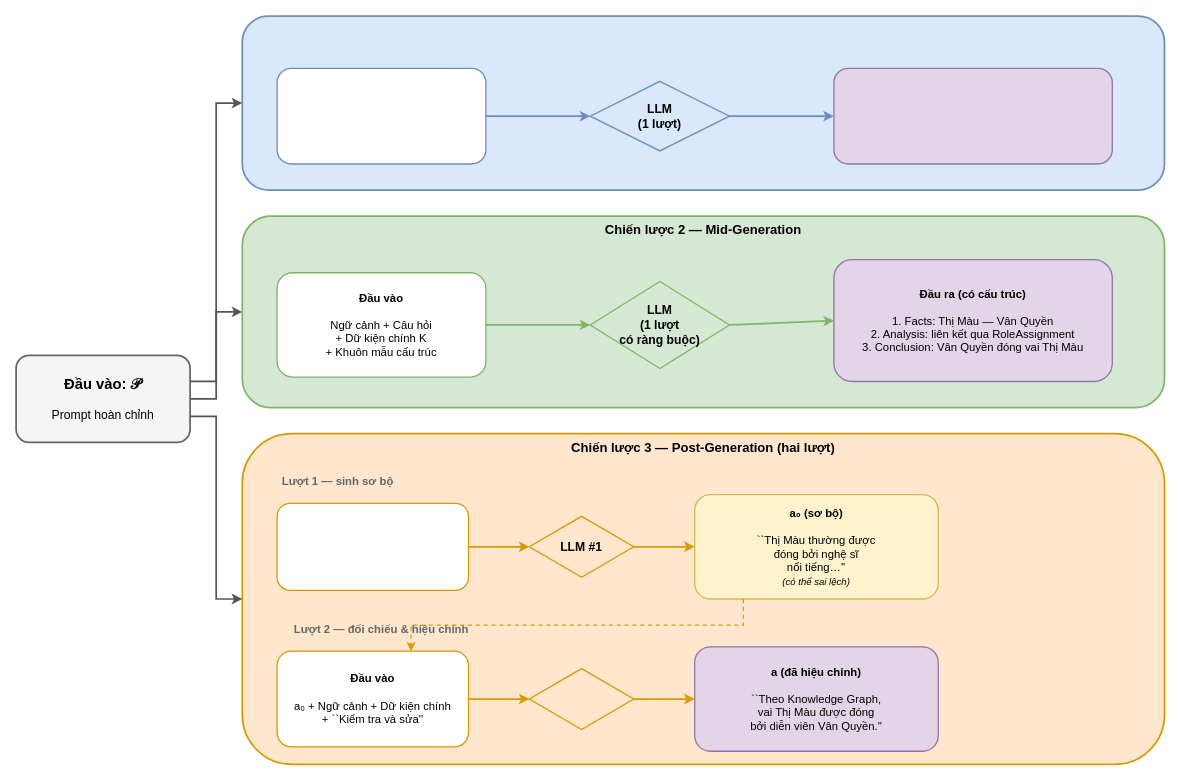
Image size: 1180x780. Some labels were removed from this diagram. The box of each missing label's shape, as (x1, y1, x2, y2) in pixels:
Chiến lược 1 — Pre-Generation: (241, 15, 1165, 191)
LLM #2: (528, 668, 634, 730)
Đầu ra ``Vai Thị Màu được đóng bởi diễn viên Vân Quyền.'': (833, 67, 1113, 164)
Đầu vào Chỉ câu hỏi (không có ngữ cảnh): (276, 502, 469, 591)
Đầu vào Ngữ cảnh + Câu hỏi + Chỉ dẫn: (276, 67, 486, 164)
